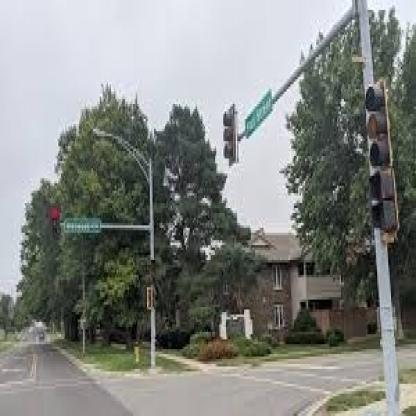Traffic Signal: (221, 104, 240, 168), (50, 206, 62, 248)
